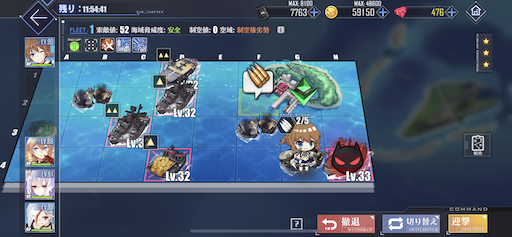boss: (324, 135, 371, 177)
lv1: (144, 136, 190, 179), (152, 74, 193, 117)
lv2: (106, 104, 145, 147), (155, 46, 198, 73)
